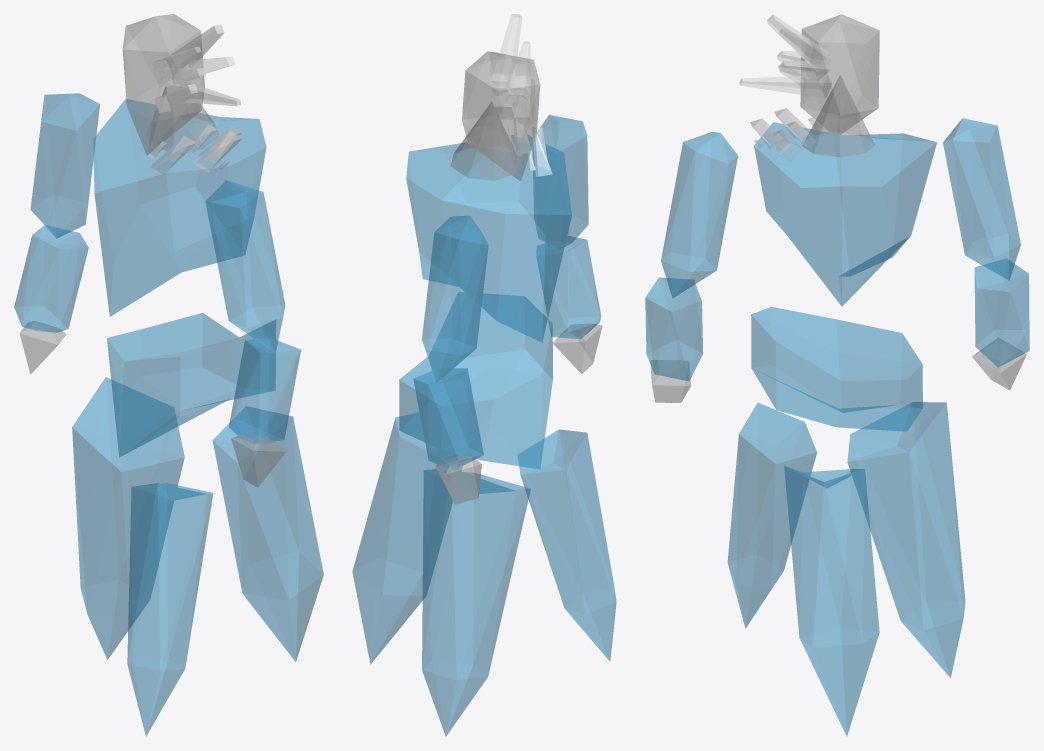
File: ghostIdle27.obj
3 views of the same model, side by side, from view 1: azimuth 30°, elevation 25°; view 2: azimuth 150°, elevation 25°; view 3: azimuth 270°, elevation 25° (orthographic). The views are drawn at different scales.
Visible parts, largest first — view 1: Cube.001_Cube.001, Icosphere.005, Icosphere.004, Cube_Cube.002, Icosphere.003, Icosphere.005_Icosphere.001, Icosphere.003_Icosphere.001, Icosphere.007_Icosphere.001, Icosphere.008_Icosphere.001, Icosphere.006_Icosphere.001, Cone_Cone.002, Cube.002_Cube.001 (+8 smaller); view 2: Cube.001_Cube.001, Cube_Cube.002, Icosphere.005, Icosphere.004, Icosphere.003, Icosphere.007_Icosphere.001, Icosphere.003_Icosphere.001, Icosphere.005_Icosphere.001, Icosphere.008_Icosphere.001, Icosphere.006_Icosphere.001, Cone_Cone.002, Cube.003_Cube.001 (+5 smaller); view 3: Cube.001_Cube.001, Icosphere.005, Icosphere.004, Cube_Cube.002, Icosphere.003, Icosphere.005_Icosphere.001, Icosphere.007_Icosphere.001, Icosphere.003_Icosphere.001, Icosphere.006_Icosphere.001, Icosphere.008_Icosphere.001, Cone_Cone.002, Cube.003_Cube.001 (+4 smaller).
Part boxes in pixels (x1=…): Cube.001_Cube.001: x1=93, y1=99, x2=266, y2=316; Icosphere.005: x1=72, y1=377, x2=184, y2=659; Icosphere.004: x1=212, y1=406, x2=323, y2=661; Cube_Cube.002: x1=107, y1=313, x2=275, y2=457; Icosphere.003: x1=127, y1=483, x2=213, y2=736; Icosphere.005_Icosphere.001: x1=205, y1=180, x2=285, y2=353; Icosphere.003_Icosphere.001: x1=122, y1=14, x2=204, y2=154; Icosphere.007_Icosphere.001: x1=30, y1=93, x2=99, y2=238; Icosphere.008_Icosphere.001: x1=14, y1=225, x2=88, y2=332; Icosphere.006_Icosphere.001: x1=229, y1=338, x2=300, y2=443; Cone_Cone.002: x1=147, y1=87, x2=219, y2=150; Cube.002_Cube.001: x1=231, y1=435, x2=285, y2=487; Cube.001_Cube.001: x1=406, y1=135, x2=571, y2=342; Cube_Cube.002: x1=399, y1=292, x2=552, y2=469; Icosphere.005: x1=422, y1=469, x2=530, y2=736; Icosphere.004: x1=352, y1=412, x2=462, y2=664; Icosphere.003: x1=518, y1=429, x2=616, y2=661; Icosphere.007_Icosphere.001: x1=422, y1=215, x2=488, y2=382; Icosphere.003_Icosphere.001: x1=462, y1=51, x2=540, y2=180; Icosphere.005_Icosphere.001: x1=533, y1=115, x2=588, y2=249; Icosphere.008_Icosphere.001: x1=413, y1=368, x2=483, y2=470; Icosphere.006_Icosphere.001: x1=536, y1=236, x2=601, y2=338; Cone_Cone.002: x1=451, y1=102, x2=516, y2=180; Cube.003_Cube.001: x1=436, y1=454, x2=481, y2=504; Cube.001_Cube.001: x1=754, y1=122, x2=936, y2=306; Icosphere.005: x1=847, y1=402, x2=965, y2=677; Icosphere.004: x1=784, y1=466, x2=879, y2=735; Cube_Cube.002: x1=751, y1=306, x2=922, y2=431; Icosphere.003: x1=727, y1=403, x2=817, y2=628; Icosphere.005_Icosphere.001: x1=661, y1=132, x2=737, y2=298; Icosphere.007_Icosphere.001: x1=943, y1=118, x2=1020, y2=280; Icosphere.003_Icosphere.001: x1=800, y1=14, x2=879, y2=133; Icosphere.006_Icosphere.001: x1=645, y1=277, x2=703, y2=381; Icosphere.008_Icosphere.001: x1=974, y1=258, x2=1029, y2=367; Cone_Cone.002: x1=802, y1=75, x2=874, y2=156; Cube.003_Cube.001: x1=972, y1=338, x2=1026, y2=390.
Bounding box in the file's own units: 16.68 × 49.16 × 25.53.
